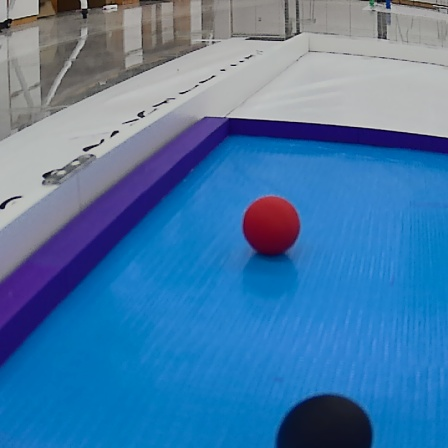black: (266, 387, 383, 448)
blue_aim: (6, 110, 448, 448)
red: (240, 192, 303, 262)
